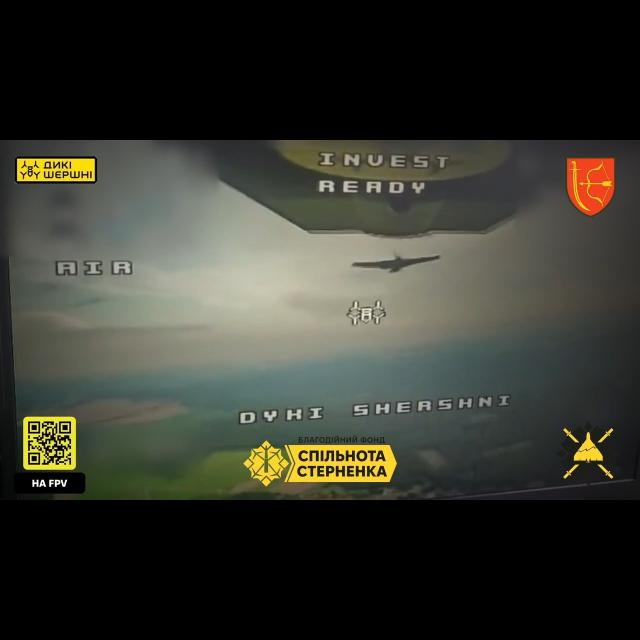Gerbera: (350, 252, 440, 274)
